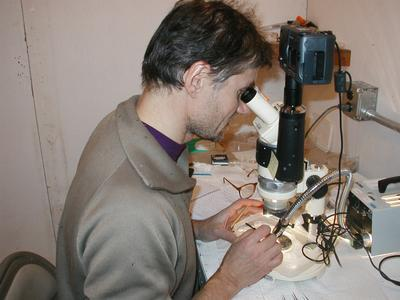person: (58, 2, 284, 300)
